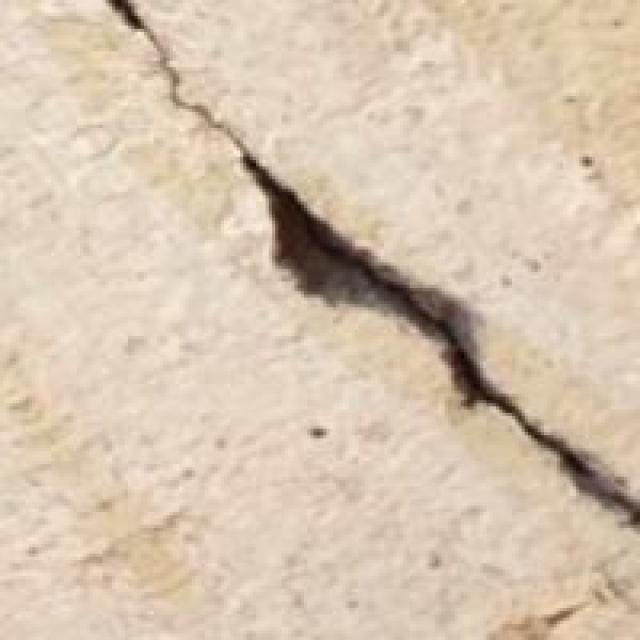Crack: (106, 0, 637, 547)
